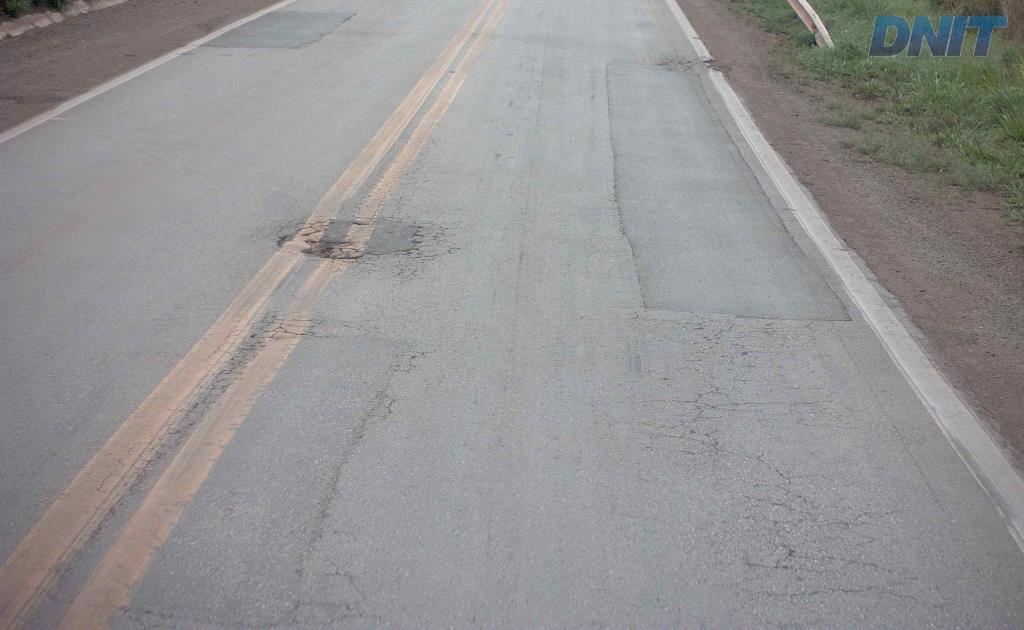crack: (403, 221, 437, 263)
